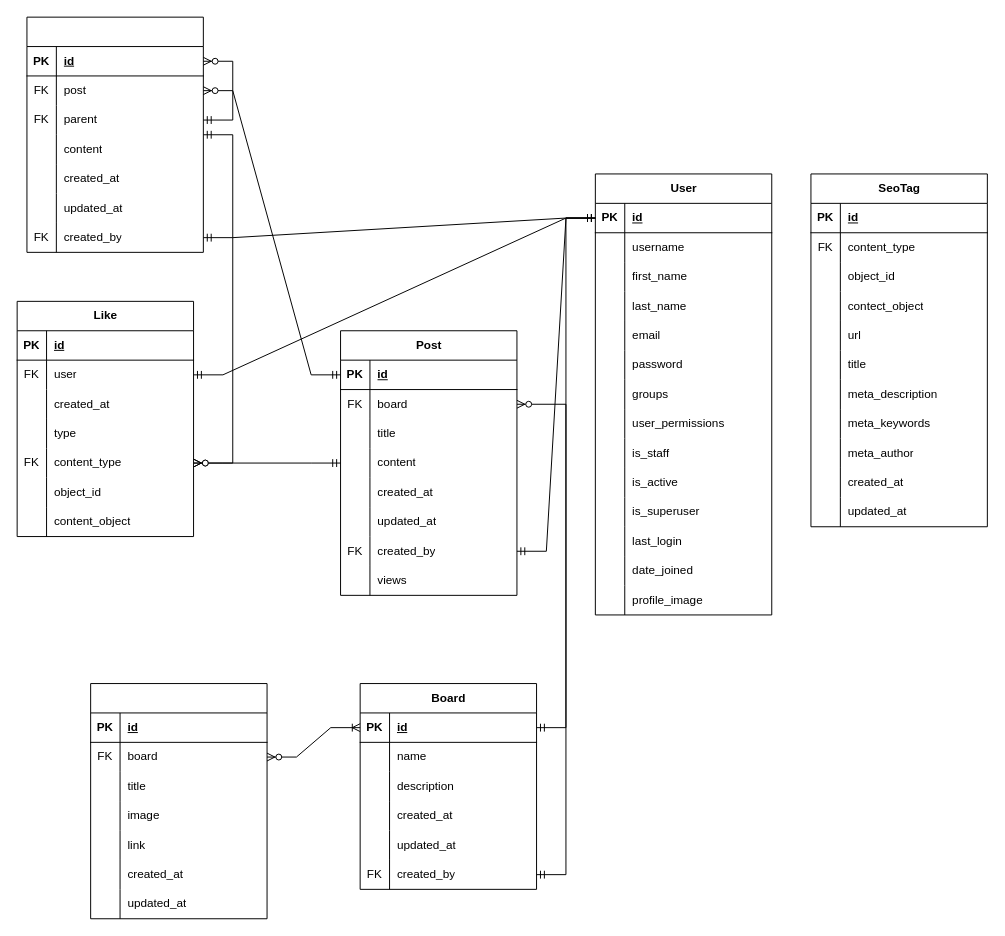
Image size: 1005x936. Some labels were removed from this diagram. The box of each missing label's shape, as (x1, y1, x2, y2) in pixels:
Banner: (90, 683, 267, 919)
Comment: (26, 16, 203, 252)
